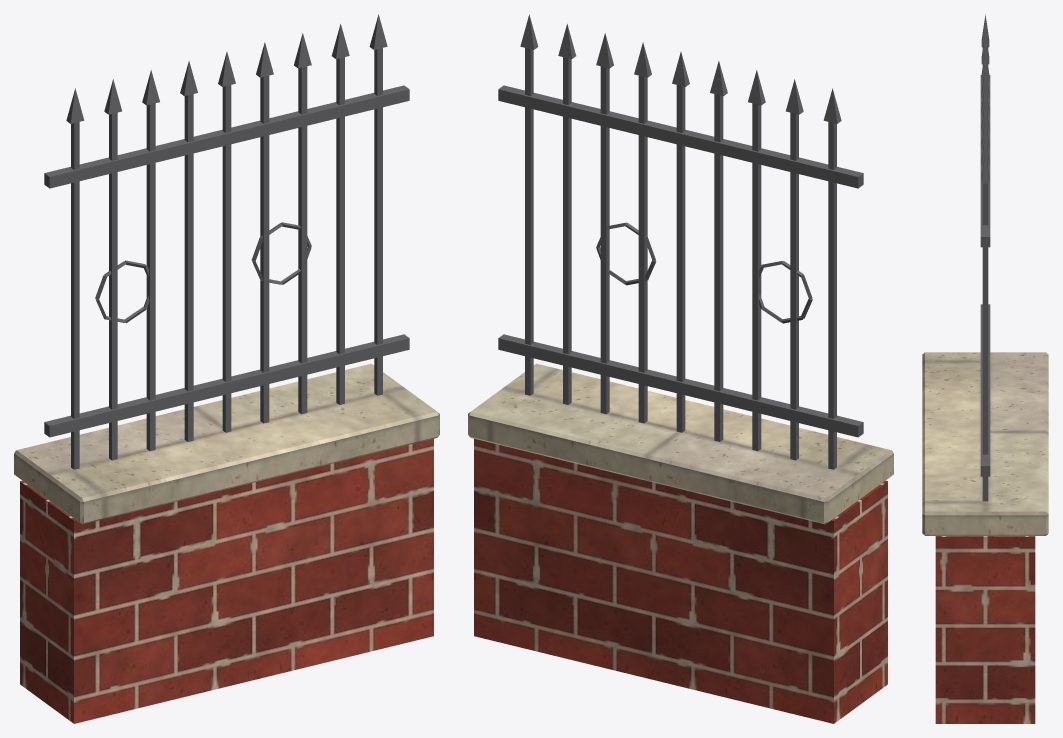
Rendered from fence_115.glb.
3 views of the same model, side by side, from view 1: azimuth 30°, elevation 25°; view 2: azimuth 150°, elevation 25°; view 3: azimuth 270°, elevation 25° (orthographic). The views are drawn at different scales.
Visible parts, largest first — view 1: fence_115_brick, fence_115_iron, fence_115_stone_t; view 2: fence_115_brick, fence_115_iron, fence_115_stone_t; view 3: fence_115_stone_t, fence_115_brick, fence_115_iron.
Part boxes in pixels (left/top/right/bottom): fence_115_brick: left=20, top=439, right=433, bottom=723; fence_115_iron: left=44, top=14, right=409, bottom=469; fence_115_stone_t: left=14, top=363, right=439, bottom=524; fence_115_brick: left=474, top=439, right=887, bottom=723; fence_115_iron: left=498, top=14, right=863, bottom=469; fence_115_stone_t: left=468, top=363, right=893, bottom=524; fence_115_stone_t: left=922, top=352, right=1048, bottom=535; fence_115_brick: left=935, top=536, right=1035, bottom=723; fence_115_iron: left=980, top=14, right=990, bottom=501.
Bounding box in the file's own units: 1.15 × 1.86 × 0.38.
Materials: 3 (2 with a texture image).
